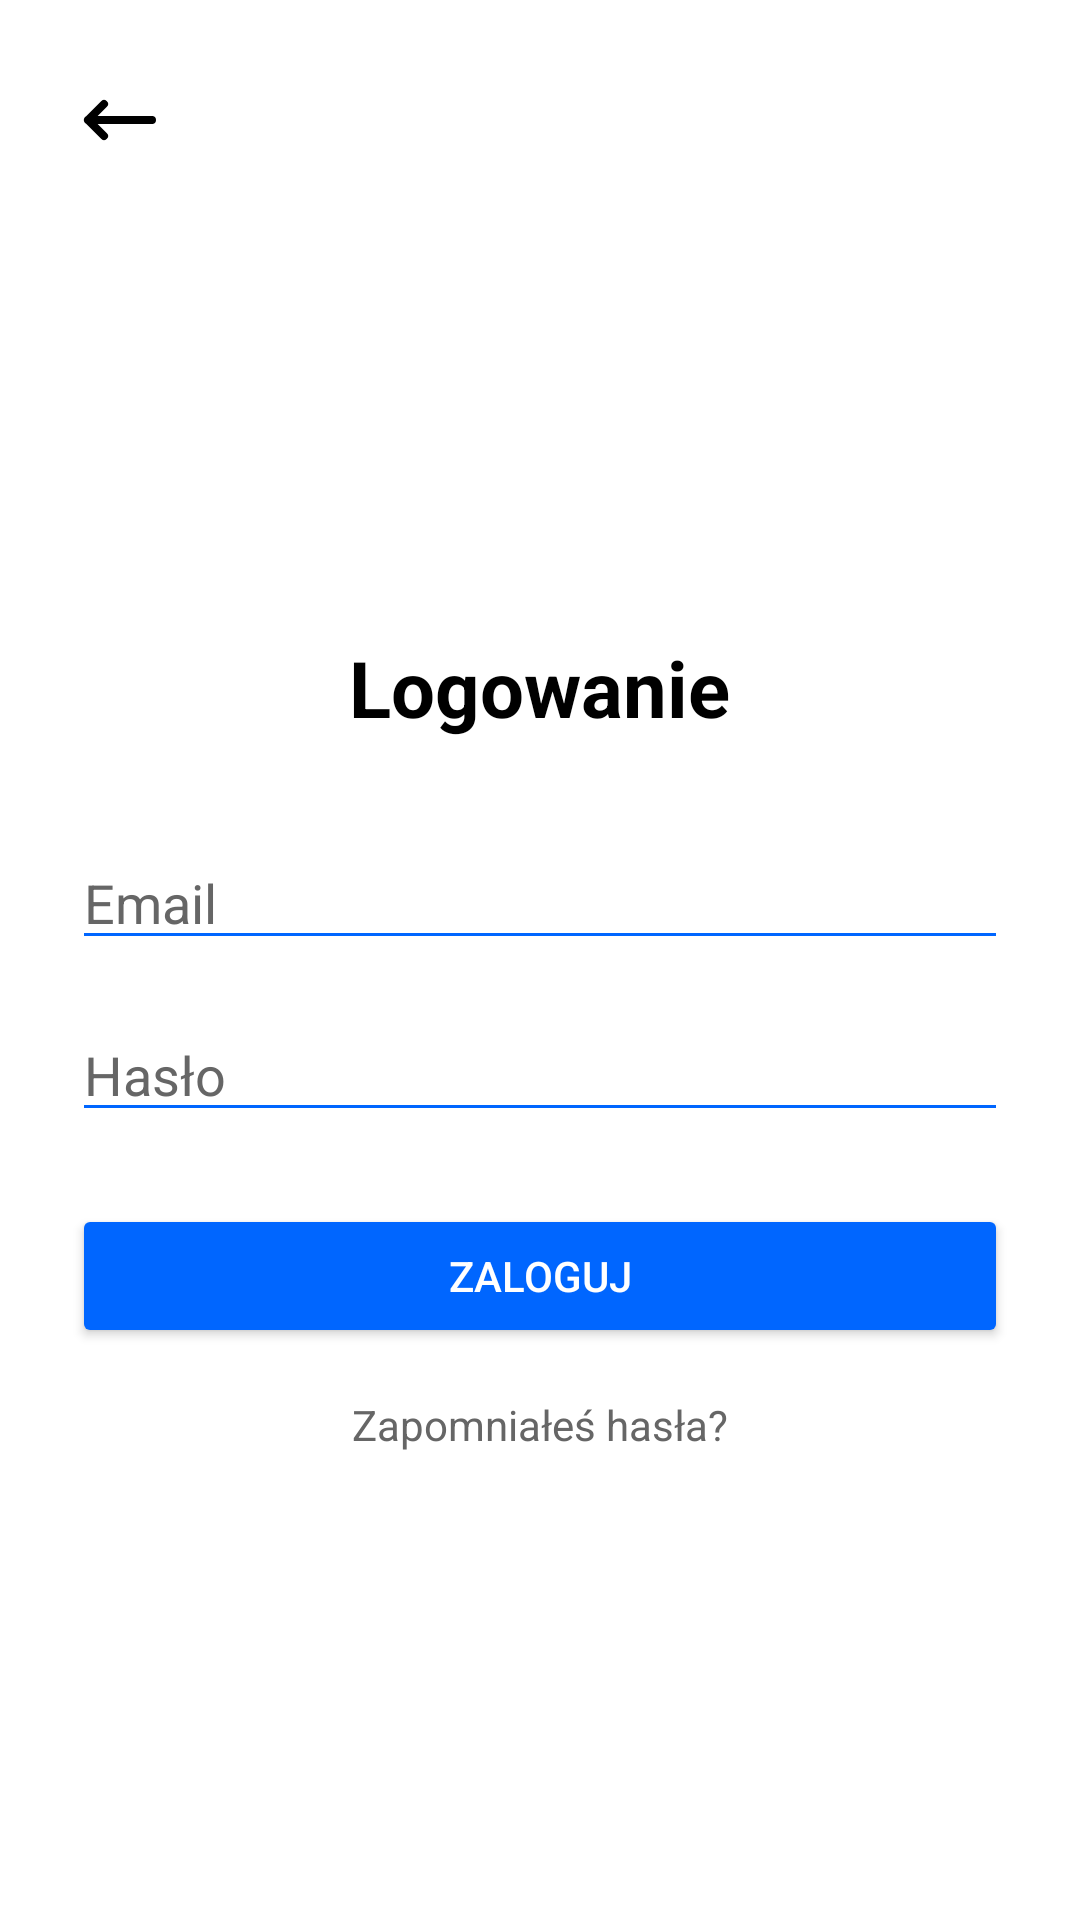

Named icons in this screenshot (1080w x 1920h) and their centers, (x,y):
arrow: (119,120)
